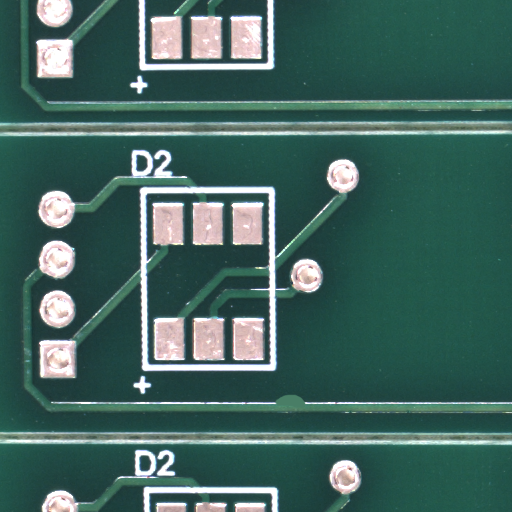Spur: (288, 399, 319, 412)
